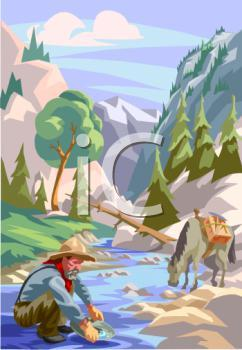horse: (156, 208, 235, 292)
person: (9, 229, 104, 344)
